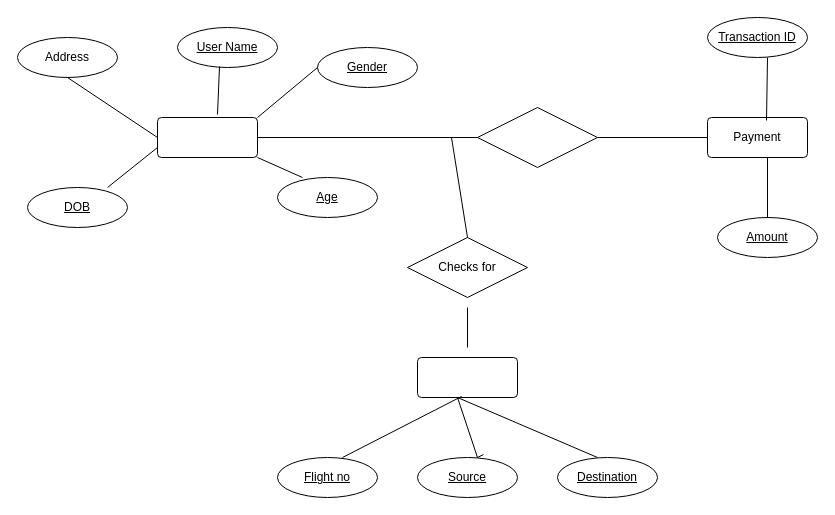
Image size: 835x515. Some labels were removed from this diagram. The shapes that lost their labels are listed below. From the top down, each one's centre as x and y in pixels, then its label:
point 207,137: Passenger
point 537,137: Received
point 467,377: Flight
